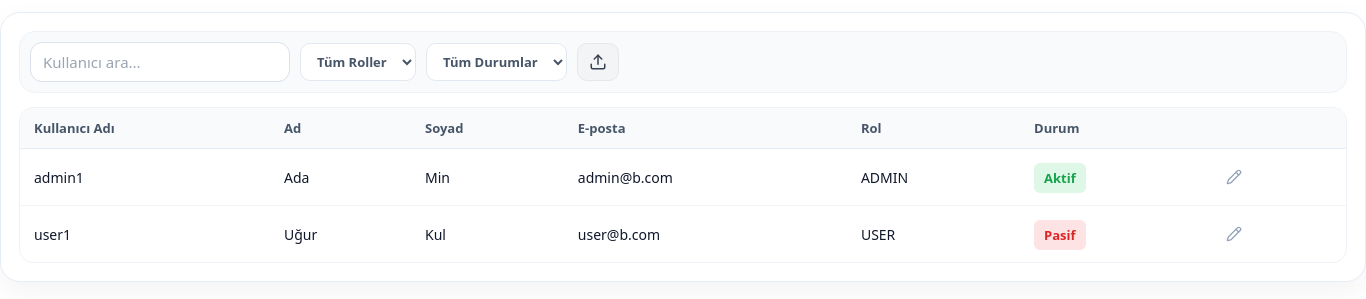
UserList › filters by search term
The width and height of the screenshot is (1366, 299).
Expected: the text "admin1" is shown, [20,149,270,206]
Type "uğur" into the field with placeholder "Kullanıcı ara...".
click(160, 62); type("uğur")  # box [30,42,290,82]
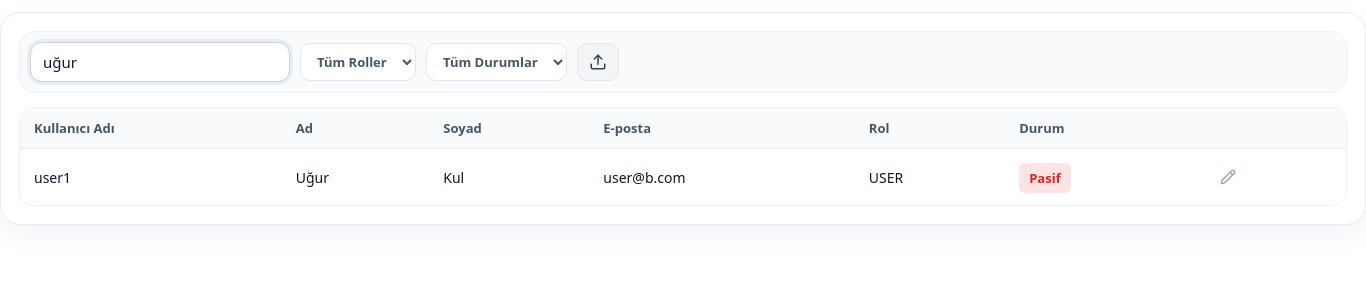
Expected: the text "user1" is shown, [20,149,282,205]
Expected: the text "admin1" is gone
